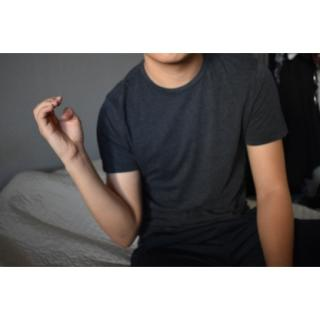JEEM: (32, 92, 92, 166)
